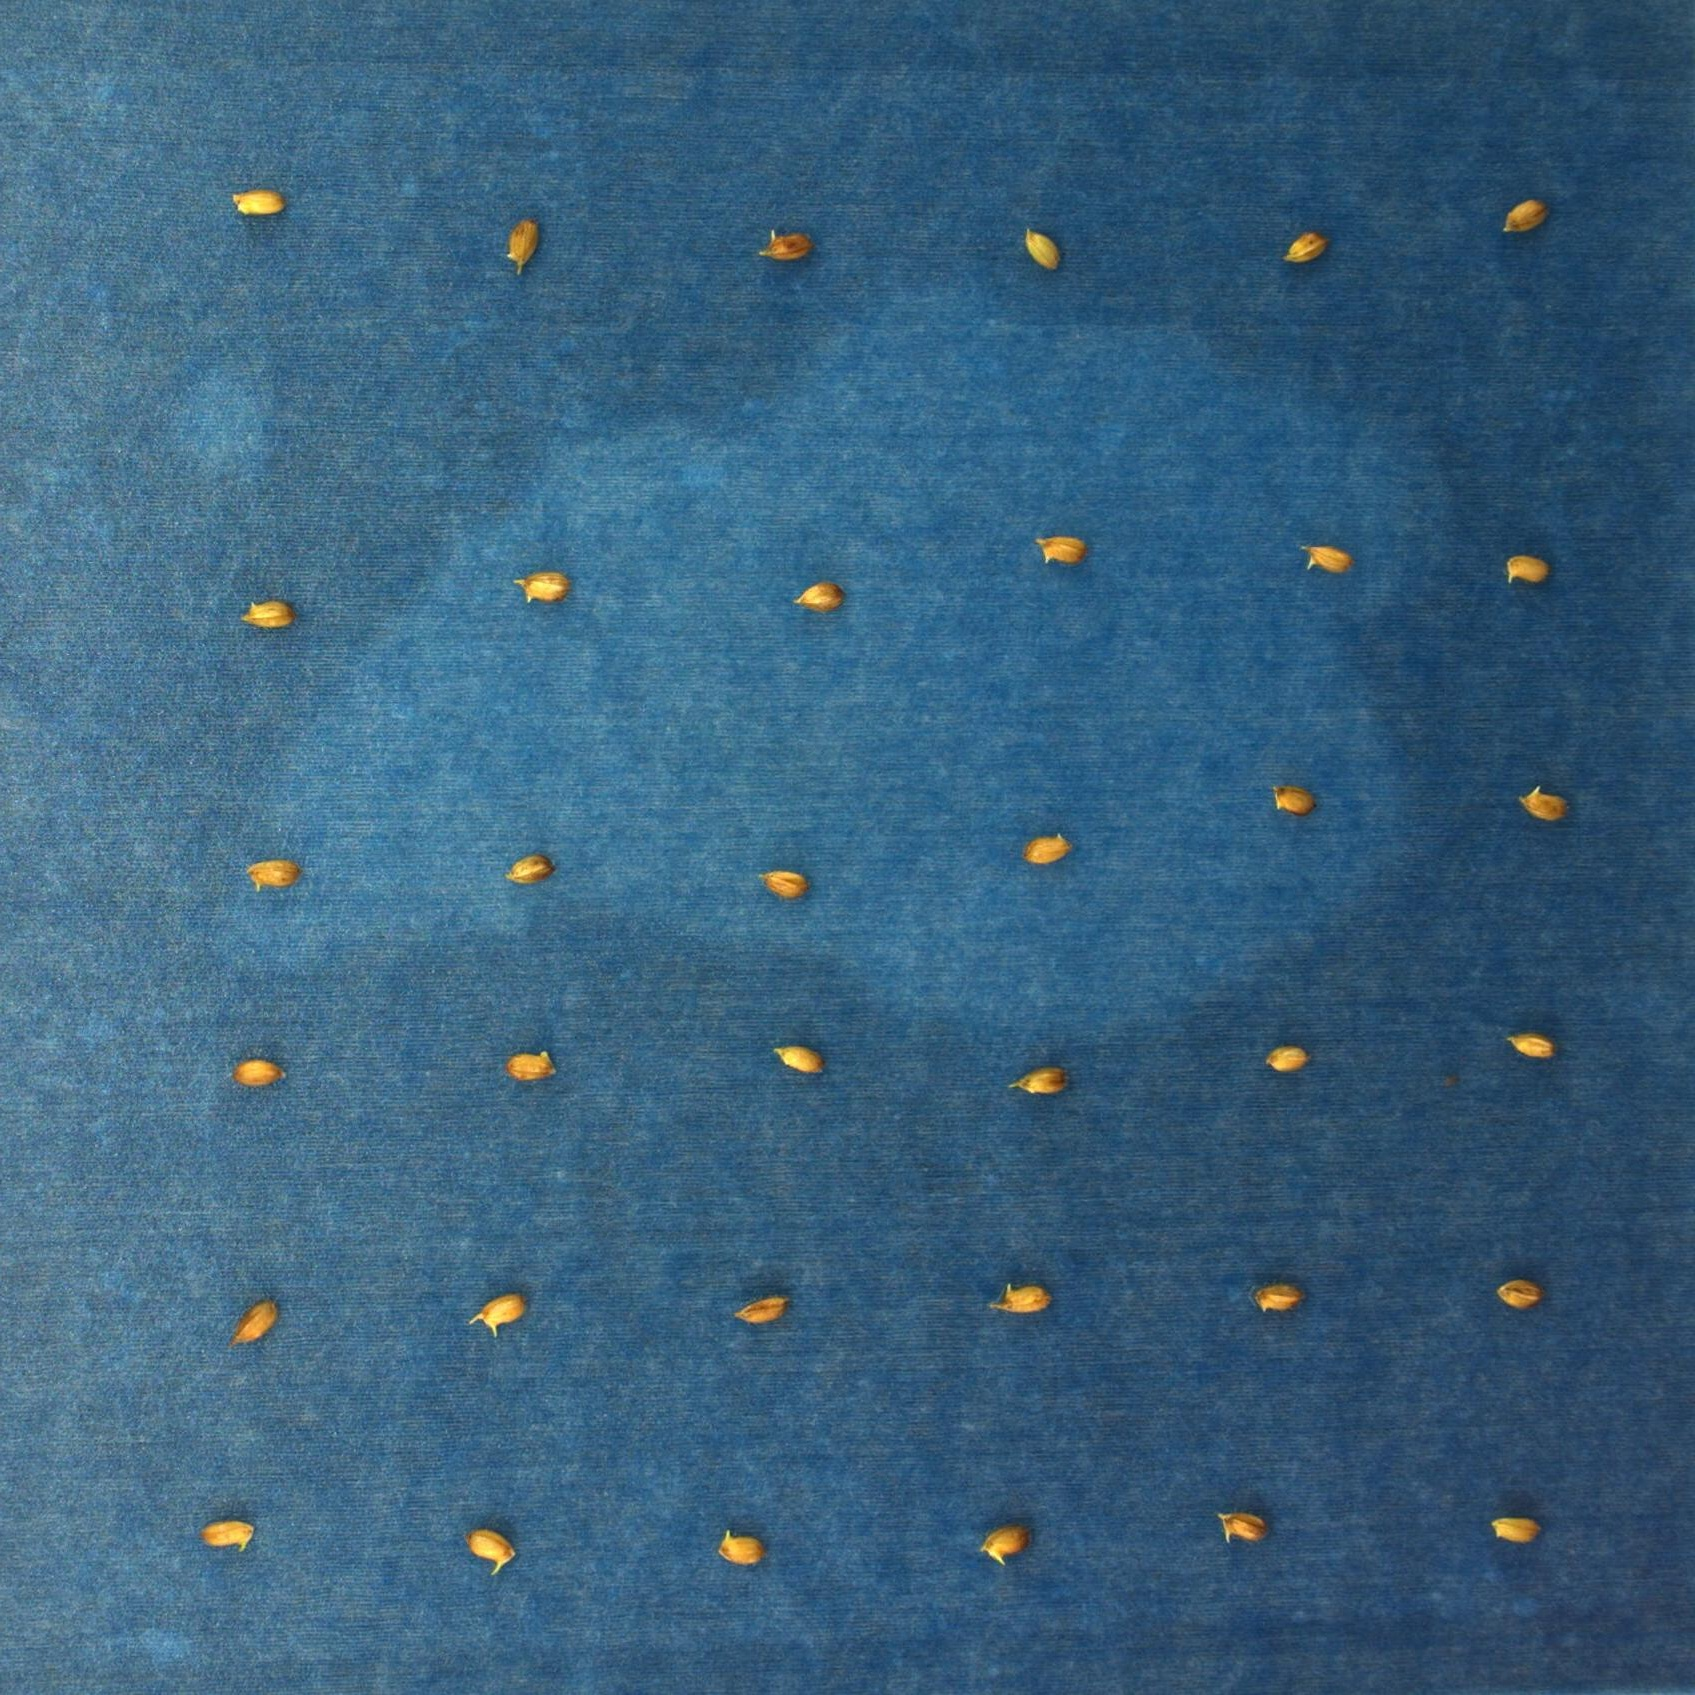not sprout: (224, 1288, 287, 1350), (463, 1288, 529, 1340), (1257, 775, 1324, 823), (498, 214, 549, 276), (1028, 528, 1097, 570), (1006, 1062, 1073, 1105), (222, 183, 290, 224), (792, 574, 851, 621), (768, 1040, 827, 1085), (469, 1523, 518, 1575), (1017, 224, 1066, 276), (497, 1042, 557, 1083), (757, 220, 820, 261), (1504, 189, 1551, 241), (237, 590, 296, 630), (1021, 829, 1080, 869), (1496, 545, 1555, 585), (984, 1284, 1057, 1316), (978, 1518, 1031, 1563), (242, 854, 307, 889), (508, 570, 573, 605), (1503, 1021, 1560, 1062), (1301, 534, 1350, 581), (716, 1524, 767, 1569), (1217, 1507, 1270, 1551), (233, 1052, 289, 1093), (1277, 227, 1330, 269), (1493, 1276, 1549, 1315), (757, 865, 810, 905), (1518, 782, 1571, 823), (733, 1295, 798, 1326), (200, 1516, 255, 1552), (1267, 1035, 1313, 1076), (1250, 1284, 1307, 1316), (1485, 1513, 1537, 1544), (509, 854, 557, 885)
